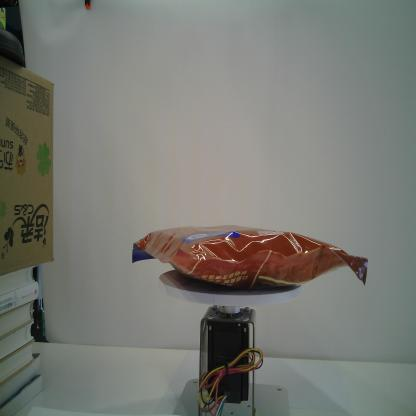Dried Food: (130, 223, 370, 292)
